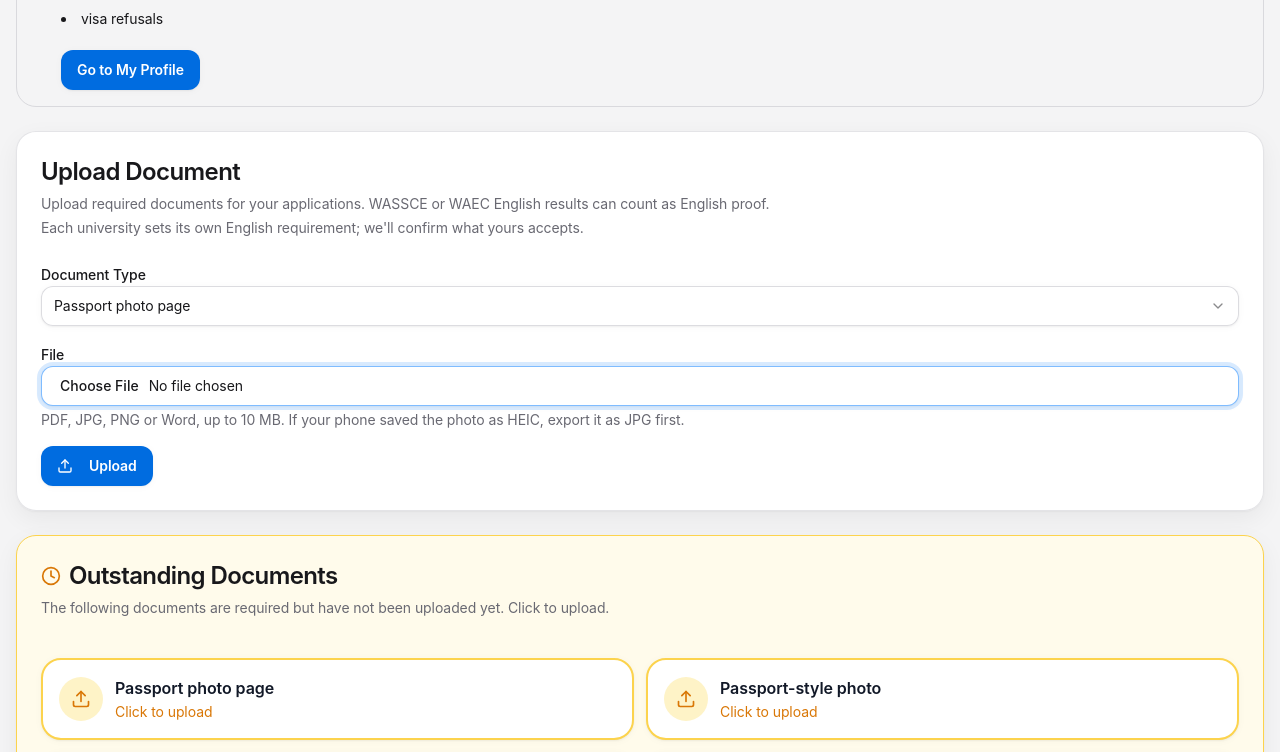
it: student dashboard uploads › accepts an upload with incomplete profile details and clears the selected file after saving
The width and height of the screenshot is (1280, 752).
Earlier steps of the test are not shown.
(page scrolled)
Click the button "Upload": click(97, 466) [41,446,153,486]
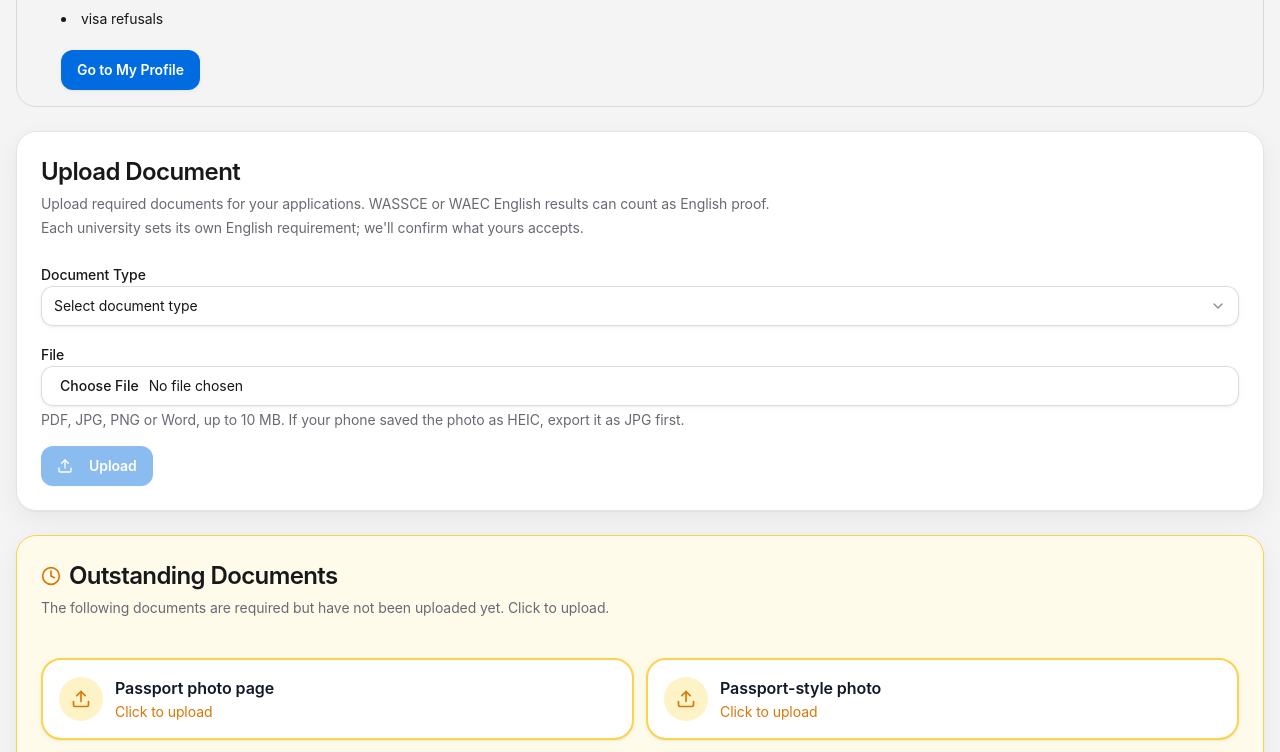
expect the button "Upload" is disabled: met, box [41,446,153,486]
